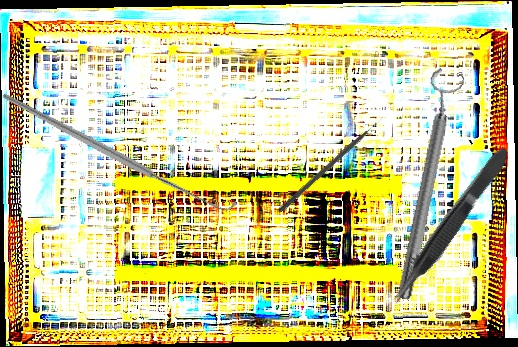Fixation Ring: (384, 66, 469, 303)
Hook Surgical: (0, 19, 239, 282)
Pusher: (277, 115, 387, 214)
Tissue Forceps: (383, 143, 517, 310)
